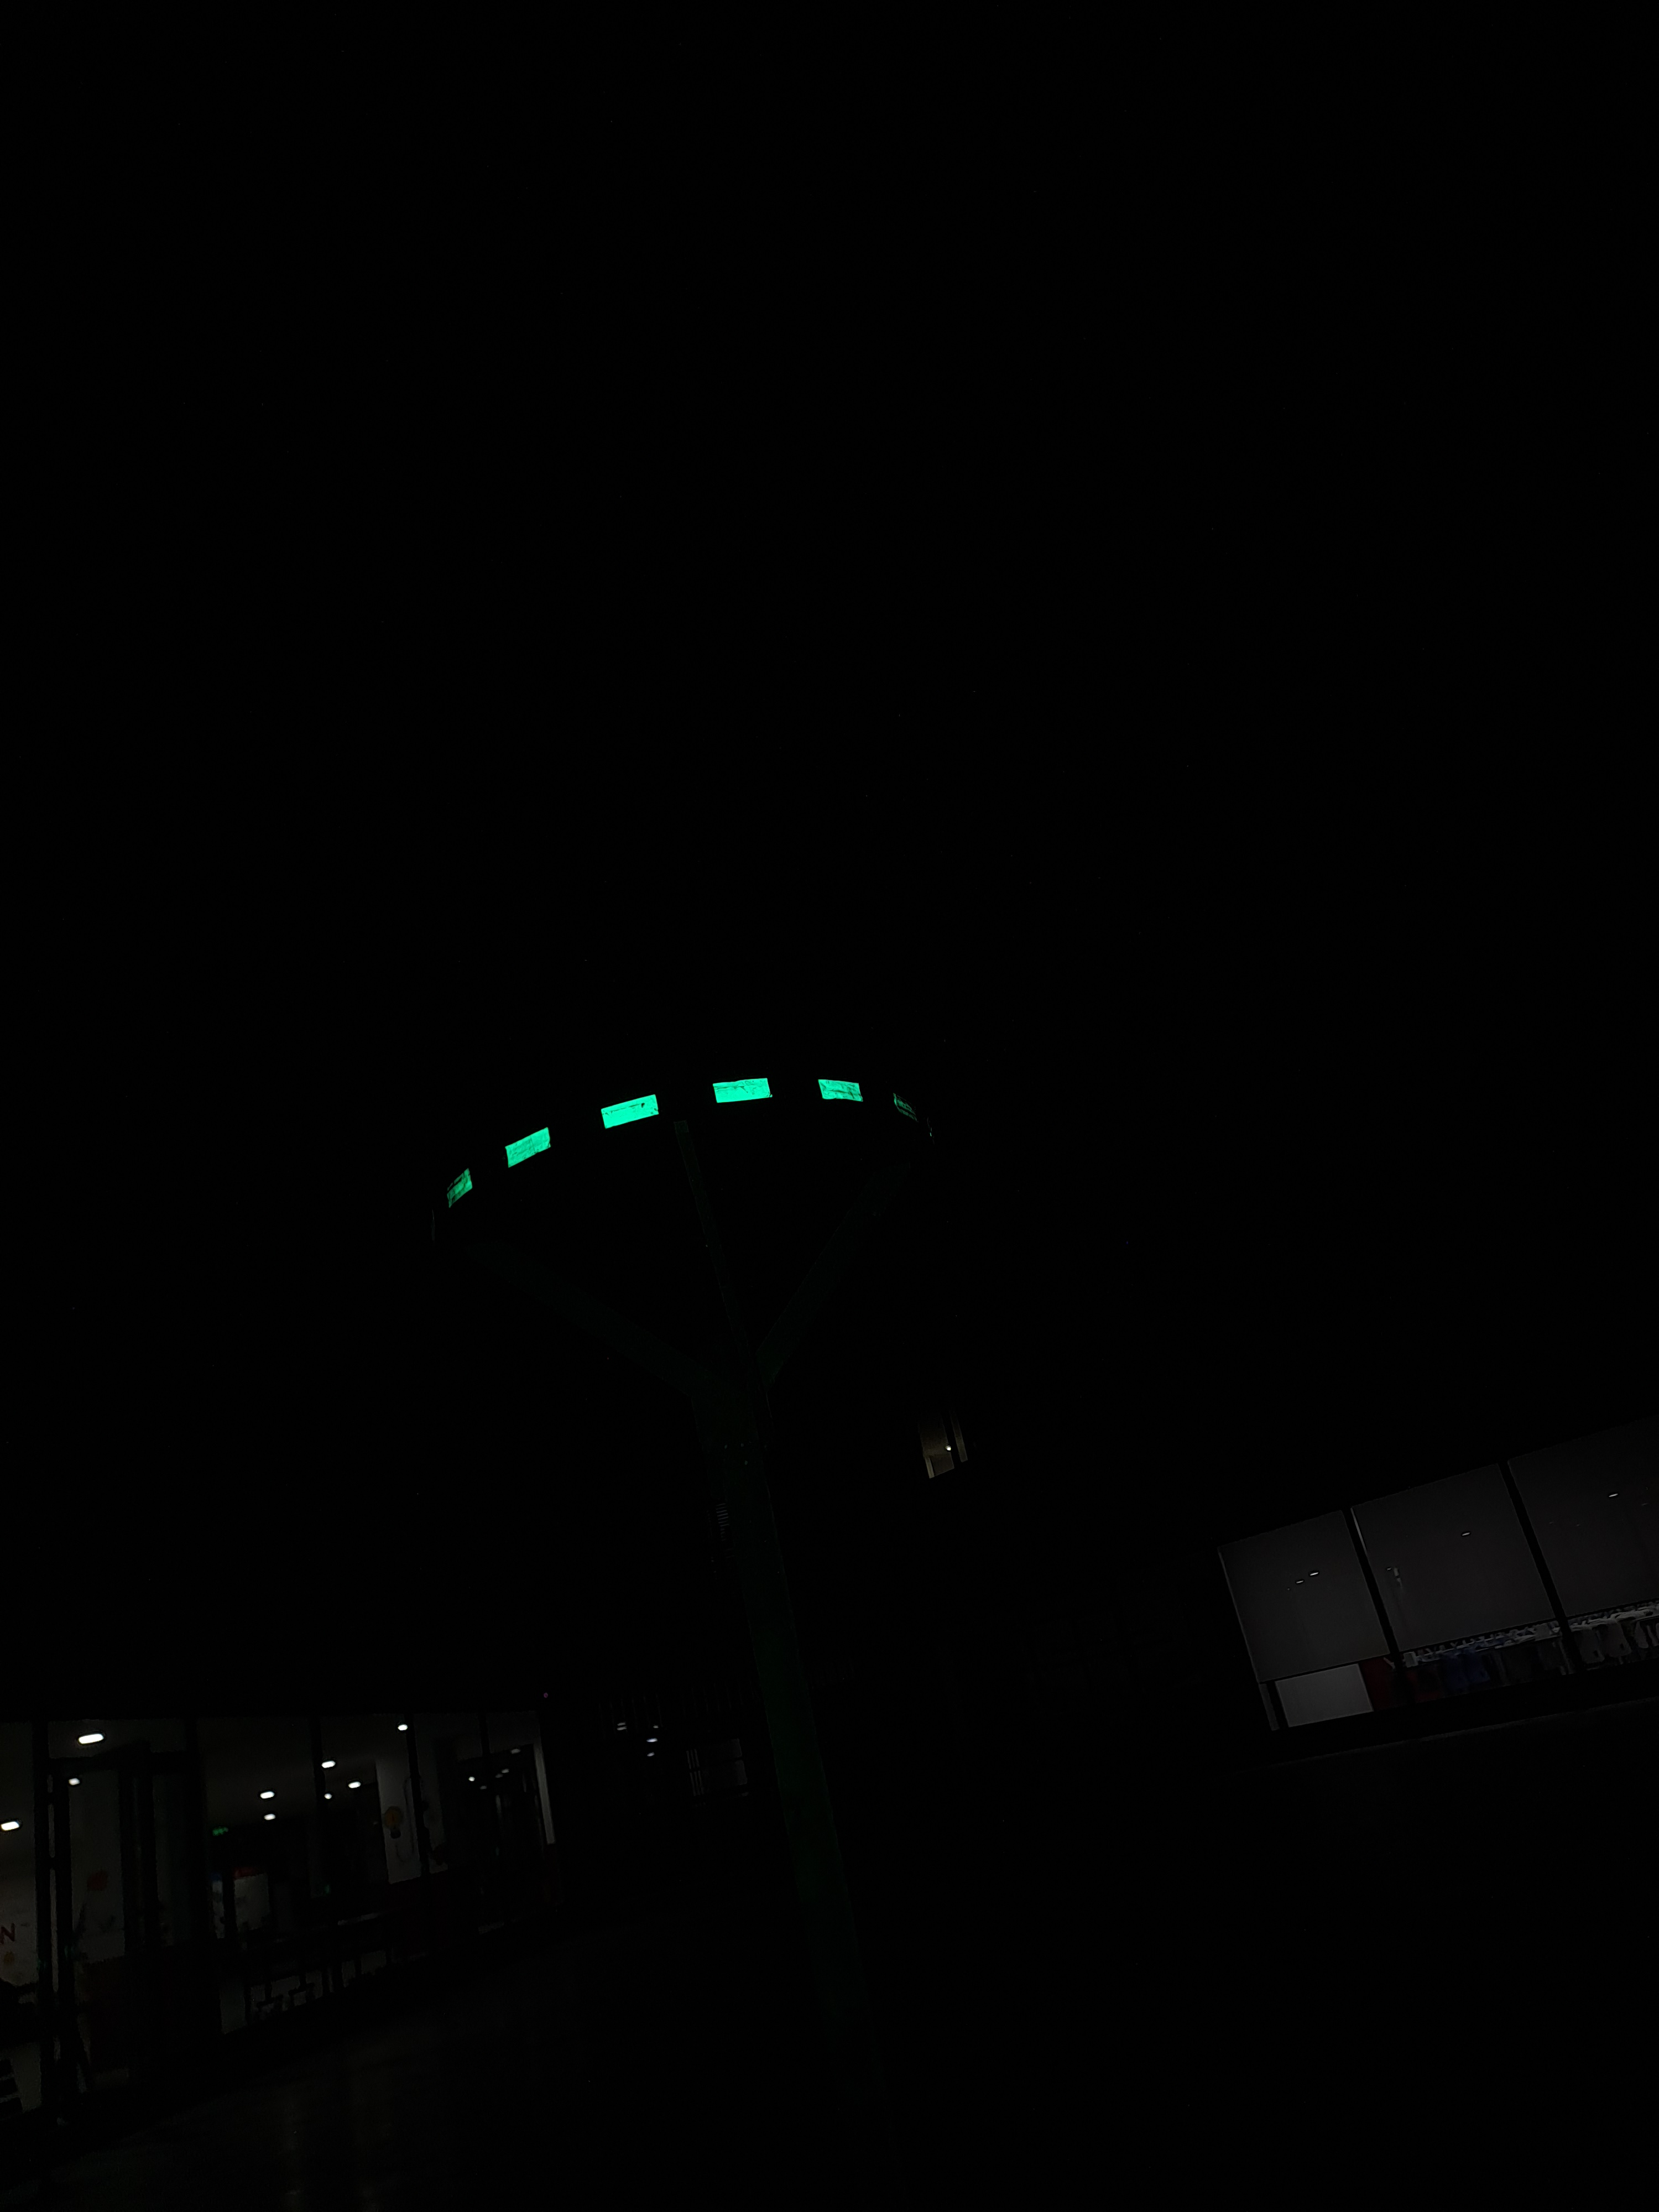hoop: (420, 1078, 870, 1216)
